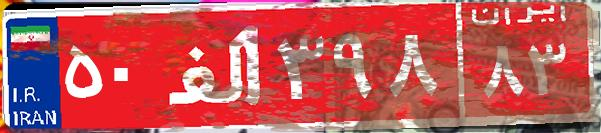0: (110, 28, 158, 105)
3: (273, 28, 330, 110), (525, 38, 570, 115)
5: (57, 26, 110, 107)
8: (385, 28, 445, 110), (475, 38, 525, 113)
9: (330, 28, 385, 110)
الف: (158, 15, 273, 115)
